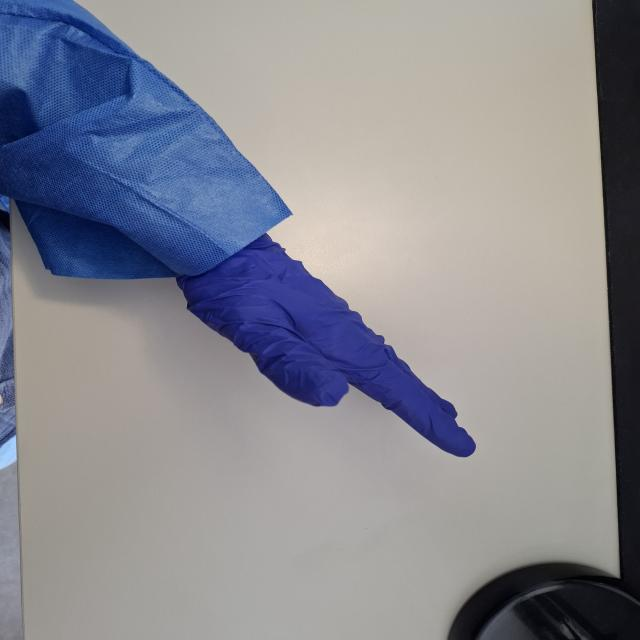glove_on: (161, 224, 480, 461)
